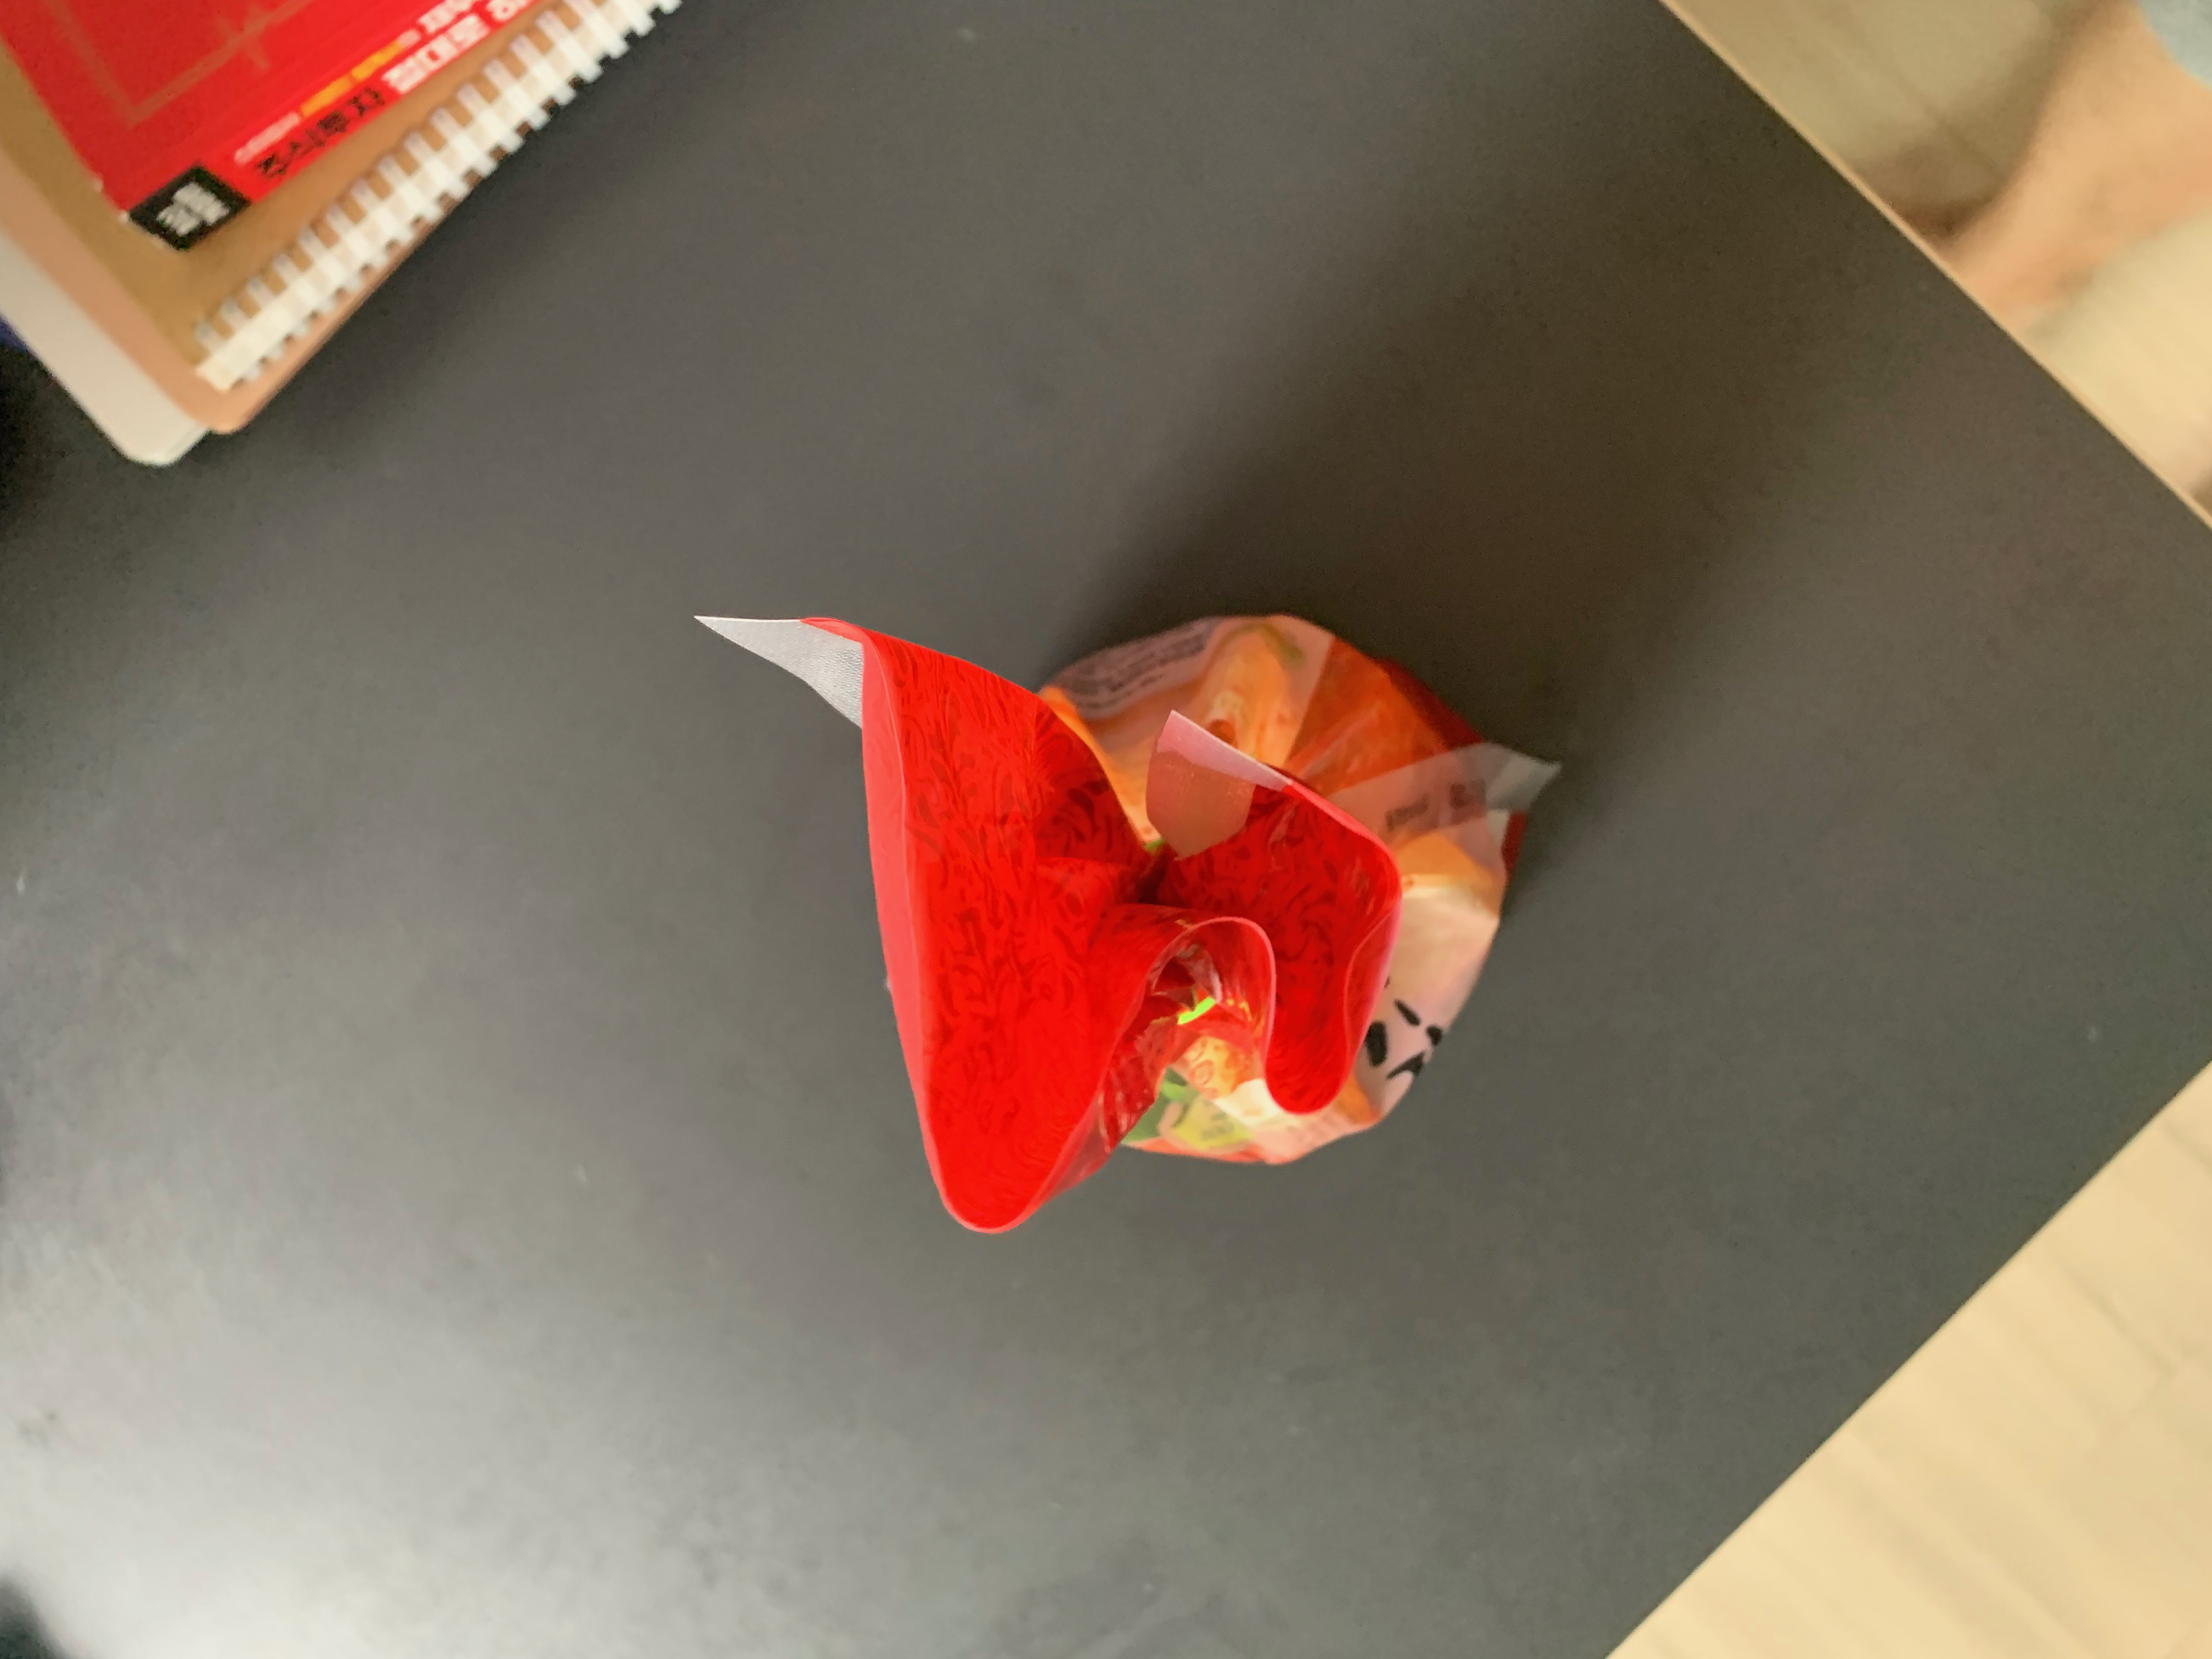kimchi: (829, 619, 1505, 1236)
